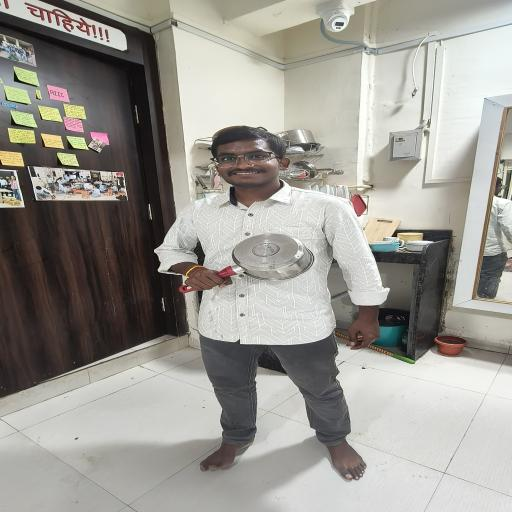survivor: (154, 126, 390, 482)
